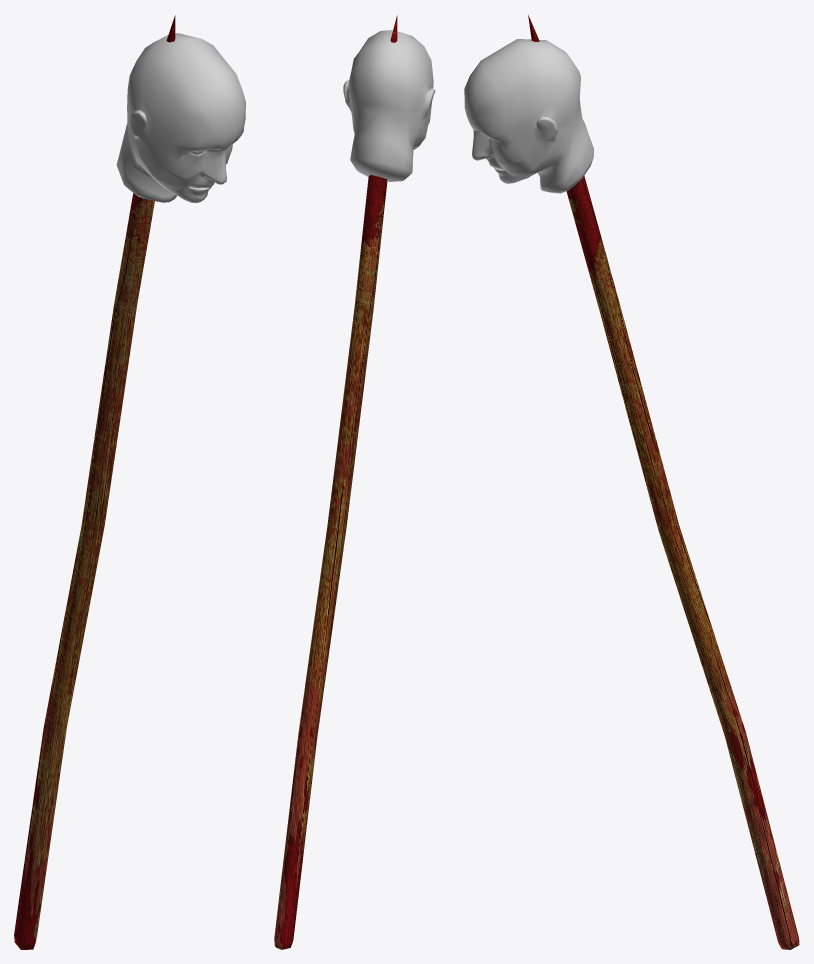
File: severed_exp_09.fbx
The picture shows the model from 3 angles, left to right: view 1: azimuth 30°, elevation 25°; view 2: azimuth 150°, elevation 25°; view 3: azimuth 270°, elevation 25°; orthographic projection. The views are drawn at different scales.
Parts seen in each view (by area): view 1: severed_exp_09; view 2: severed_exp_09; view 3: severed_exp_09.
Part boxes in pixels (bbox=[...]): severed_exp_09: bbox=[14, 15, 245, 949]; severed_exp_09: bbox=[274, 15, 435, 949]; severed_exp_09: bbox=[464, 15, 799, 949].
Bounding box in the file's own units: 0.217 × 2.18 × 0.7052.
